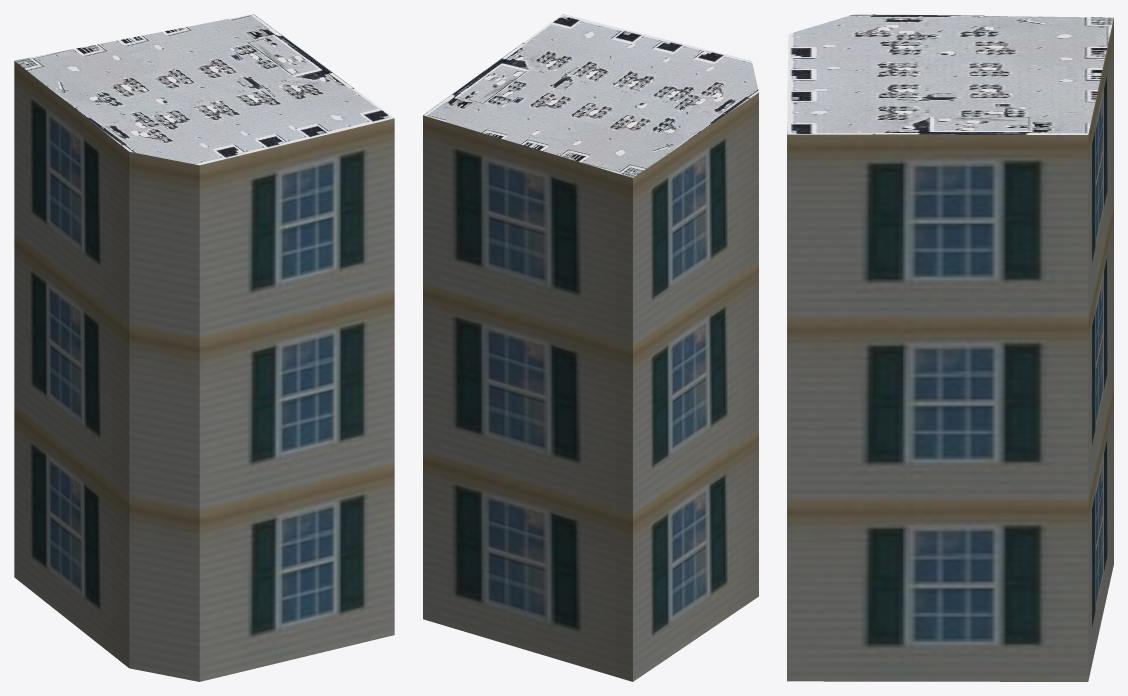
Rendered from ResTex__2639.fbx.
3 renders of one model, left to right at view 1: azimuth 30°, elevation 25°; view 2: azimuth 150°, elevation 25°; view 3: azimuth 270°, elevation 25°, orthographic. The views are drawn at different scales.
Parts seen in each view (by area): view 1: CityEngineMaterial_7_m, CityEngineMaterial_4_m; view 2: CityEngineMaterial_7_m, CityEngineMaterial_4_m; view 3: CityEngineMaterial_7_m, CityEngineMaterial_4_m.
Boxes of the visible parts, x1,y1,x2,y2 form: CityEngineMaterial_7_m: (14, 61, 394, 681); CityEngineMaterial_4_m: (14, 14, 394, 165); CityEngineMaterial_7_m: (423, 93, 758, 681); CityEngineMaterial_4_m: (423, 14, 758, 177); CityEngineMaterial_7_m: (787, 18, 1113, 681); CityEngineMaterial_4_m: (787, 14, 1113, 134).
Bounding box in the file's own units: 4.27 × 9 × 4.88.
2 materials, 2 textured.
